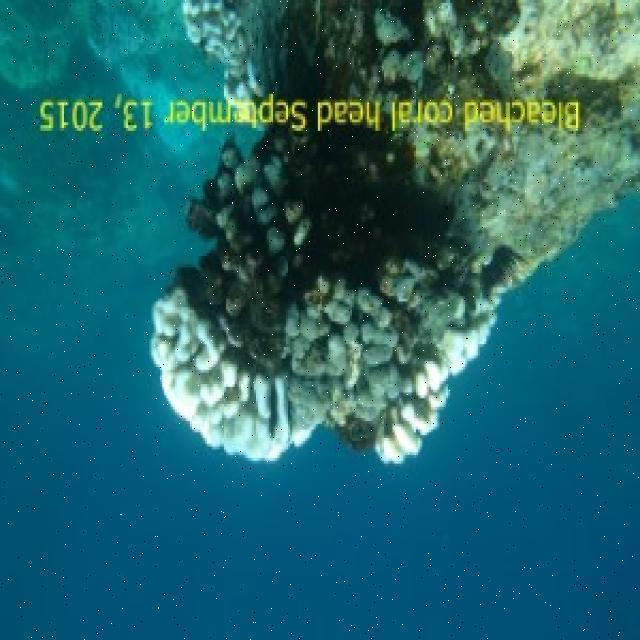Bleached: (145, 280, 289, 482), (365, 303, 509, 483)
Healthy: (286, 279, 401, 409)
